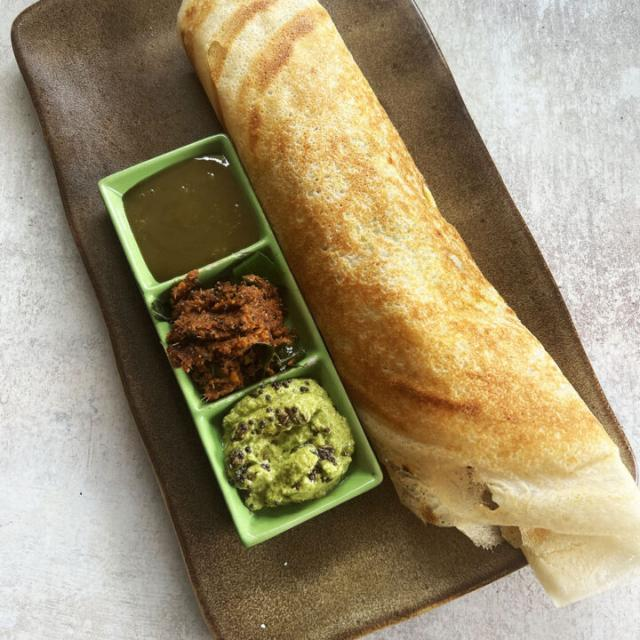plain dosa: (174, 0, 640, 601)
